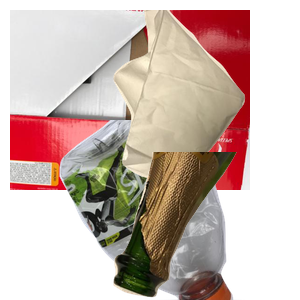cardboard: (10, 10, 250, 190)
glass: (111, 152, 300, 300)
plastic: (57, 120, 293, 300)
trash: (111, 10, 300, 190)
